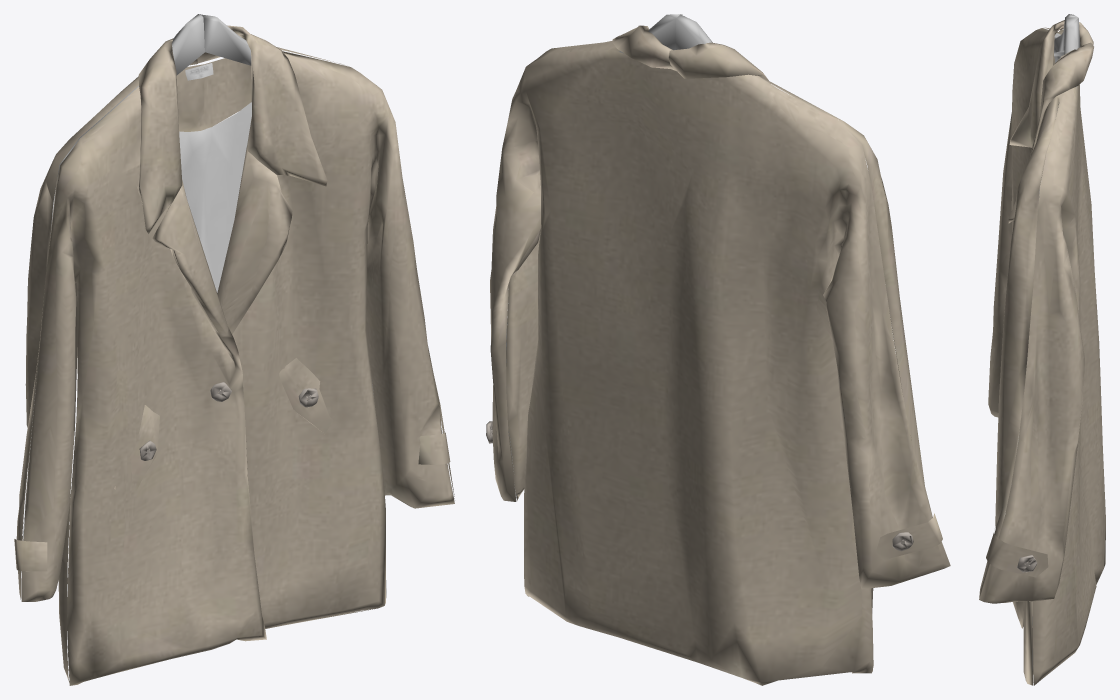
File: hvtop_clothes06_coat_01.glb
3 renders of one model, left to right at view 1: azimuth 30°, elevation 25°; view 2: azimuth 150°, elevation 25°; view 3: azimuth 270°, elevation 25°, orthographic. The views are drawn at different scales.
Visible parts, largest first — view 1: clothes06_coat_01_StaticMeshComponent0; view 2: clothes06_coat_01_StaticMeshComponent0; view 3: clothes06_coat_01_StaticMeshComponent0.
Part boxes in pixels (x1,y1,x2,y2): clothes06_coat_01_StaticMeshComponent0: (14,14,454,685); clothes06_coat_01_StaticMeshComponent0: (486,14,950,685); clothes06_coat_01_StaticMeshComponent0: (979,14,1105,685).
Bounding box in the file's own units: 0.5846 × 0.8002 × 0.1548.
Materials: 5 (3 with a texture image).
